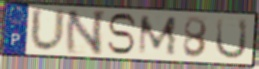8: (181, 15, 208, 59)
M: (136, 15, 178, 57)
N: (64, 9, 108, 56)
S: (105, 12, 139, 56)
U: (28, 6, 67, 54), (214, 17, 249, 61)
